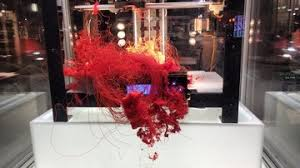fail: (66, 4, 188, 162)
